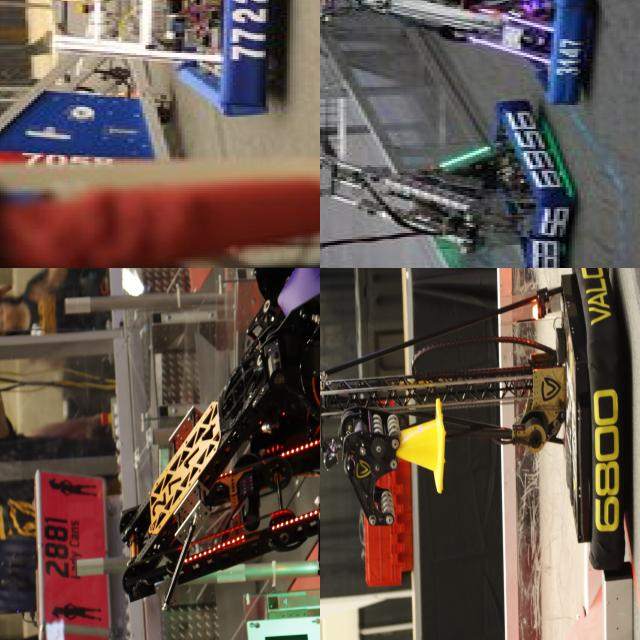FRC-Robots: (320, 268, 640, 607), (97, 268, 320, 640), (320, 98, 560, 263), (38, 0, 270, 119), (320, 0, 602, 76)
